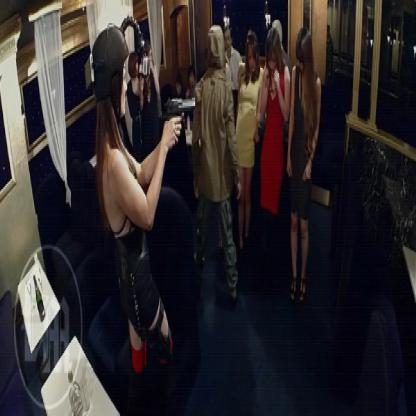Guns: (163, 91, 196, 146)
